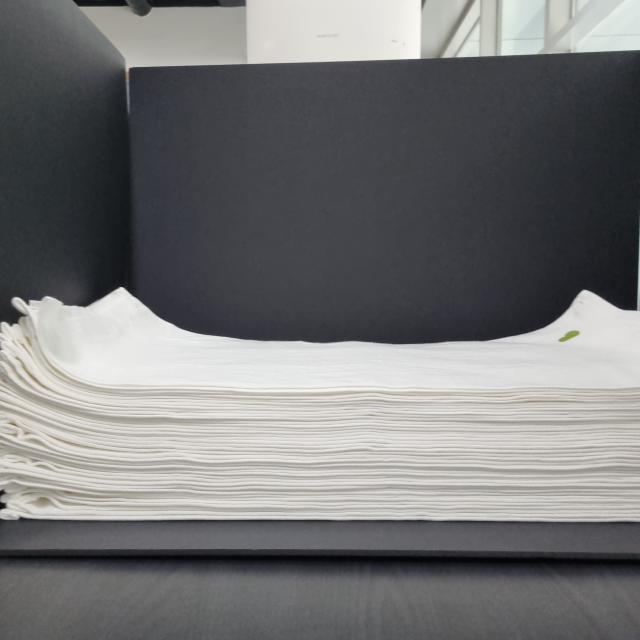not_50count_towel: (0, 252, 640, 542)
